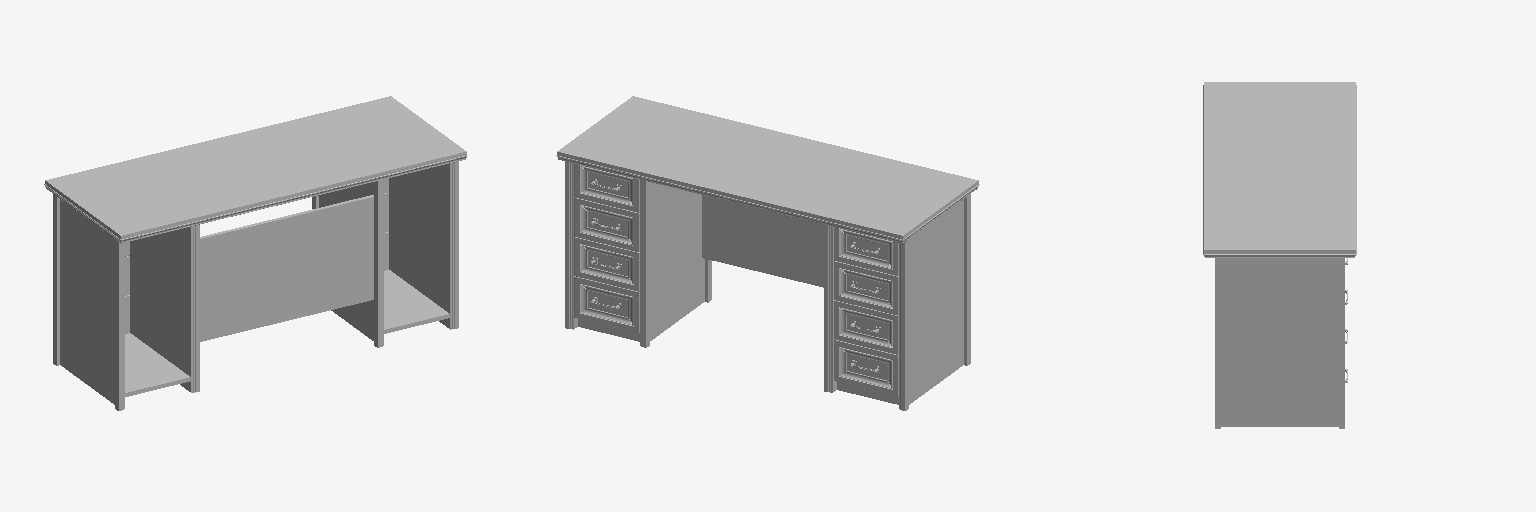
Rendered from Classic table.obj.
3 views of the same model, side by side, from view 1: azimuth 30°, elevation 25°; view 2: azimuth 150°, elevation 25°; view 3: azimuth 270°, elevation 25° (orthographic).
Parts seen in each view (by area): view 1: Mesh4 Difference Model, Mesh10 Group4 Model, Mesh3 Group2 Model, Mesh14 Group7 Model, Mesh6 Group3 Model, Mesh20 Group8 Model, Mesh12 Group5 Model, Mesh8 Difference3 Model, Mesh17 Difference8 Model, Mesh13 Group6 Model, Mesh22 Difference11 Model, Mesh18 Difference9 Model (+2 smaller); view 2: Mesh4 Difference Model, Mesh3 Group2 Model, Mesh10 Group4 Model, Mesh13 Group6 Model, Mesh9 Difference4 Model, Mesh15 Difference6 Model, Mesh7 Difference2 Model, Mesh16 Difference7 Model, Mesh2 OuterShell Model, Mesh8 Difference3 Model, Mesh30 OuterShell6 Model, Mesh45 OuterShell18 Model (+17 smaller); view 3: Mesh4 Difference Model, Mesh6 Group3 Model, Mesh7 Difference2 Model, Mesh18 Difference9 Model, Mesh5 Difference1 Model.
Boxes of the visible parts, box(x1,y1,x2,y2) form: Mesh4 Difference Model: box(45, 96, 466, 239); Mesh10 Group4 Model: box(200, 195, 373, 341); Mesh3 Group2 Model: box(60, 199, 114, 404); Mesh14 Group7 Model: box(130, 227, 190, 391); Mesh6 Group3 Model: box(389, 164, 449, 328); Mesh20 Group8 Model: box(384, 270, 449, 333); Mesh12 Group5 Model: box(125, 333, 190, 396); Mesh8 Difference3 Model: box(115, 239, 124, 410); Mesh17 Difference8 Model: box(374, 180, 383, 347); Mesh13 Group6 Model: box(319, 182, 373, 340); Mesh22 Difference11 Model: box(191, 225, 199, 392); Mesh18 Difference9 Model: box(450, 161, 458, 329); Mesh4 Difference Model: box(557, 96, 978, 239); Mesh3 Group2 Model: box(909, 199, 963, 404); Mesh10 Group4 Model: box(702, 195, 823, 287); Mesh13 Group6 Model: box(650, 182, 704, 340); Mesh9 Difference4 Model: box(899, 239, 908, 410); Mesh15 Difference6 Model: box(640, 180, 649, 347); Mesh7 Difference2 Model: box(565, 161, 573, 329); Mesh16 Difference7 Model: box(824, 225, 832, 392); Mesh2 OuterShell Model: box(556, 155, 902, 243); Mesh8 Difference3 Model: box(964, 194, 970, 365); Mesh30 OuterShell6 Model: box(834, 371, 897, 396); Mesh45 OuterShell18 Model: box(575, 308, 637, 332); Mesh4 Difference Model: box(1204, 82, 1355, 253); Mesh6 Group3 Model: box(1221, 258, 1338, 426); Mesh7 Difference2 Model: box(1339, 258, 1344, 428); Mesh18 Difference9 Model: box(1215, 258, 1220, 428); Mesh5 Difference1 Model: box(1204, 254, 1355, 257).
Size of the model in its own units: 1586 by 786 by 606.